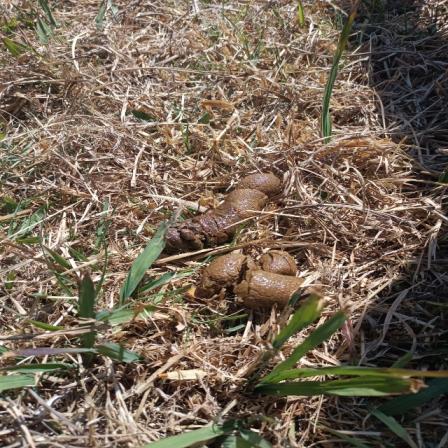dog-poop: (153, 170, 294, 244), (199, 254, 315, 311)
